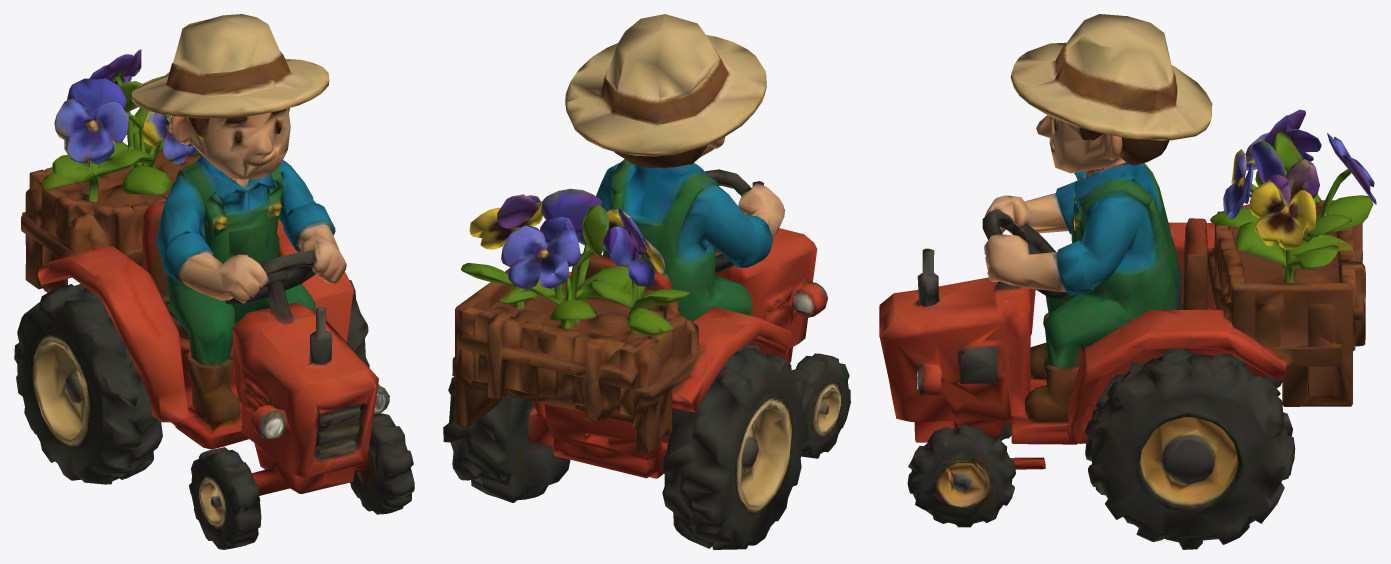
Rendered from heniu-traktor.glb.
The picture shows the model from 3 angles, left to right: view 1: azimuth 30°, elevation 25°; view 2: azimuth 150°, elevation 25°; view 3: azimuth 270°, elevation 25°; orthographic projection. The views are drawn at different scales.
Parts seen in each view (by area): view 1: tripo_node_66892e4b-52b4-4048-aea3-a393a49d559c; view 2: tripo_node_66892e4b-52b4-4048-aea3-a393a49d559c; view 3: tripo_node_66892e4b-52b4-4048-aea3-a393a49d559c.
Part boxes in pixels (left/top/right/bottom): tripo_node_66892e4b-52b4-4048-aea3-a393a49d559c: left=14, top=14, right=414, bottom=549; tripo_node_66892e4b-52b4-4048-aea3-a393a49d559c: left=443, top=14, right=850, bottom=549; tripo_node_66892e4b-52b4-4048-aea3-a393a49d559c: left=879, top=14, right=1376, bottom=549.
Bounding box in the file's own units: 0.6113 × 0.9791 × 0.9482.
1 material, 1 textured.
